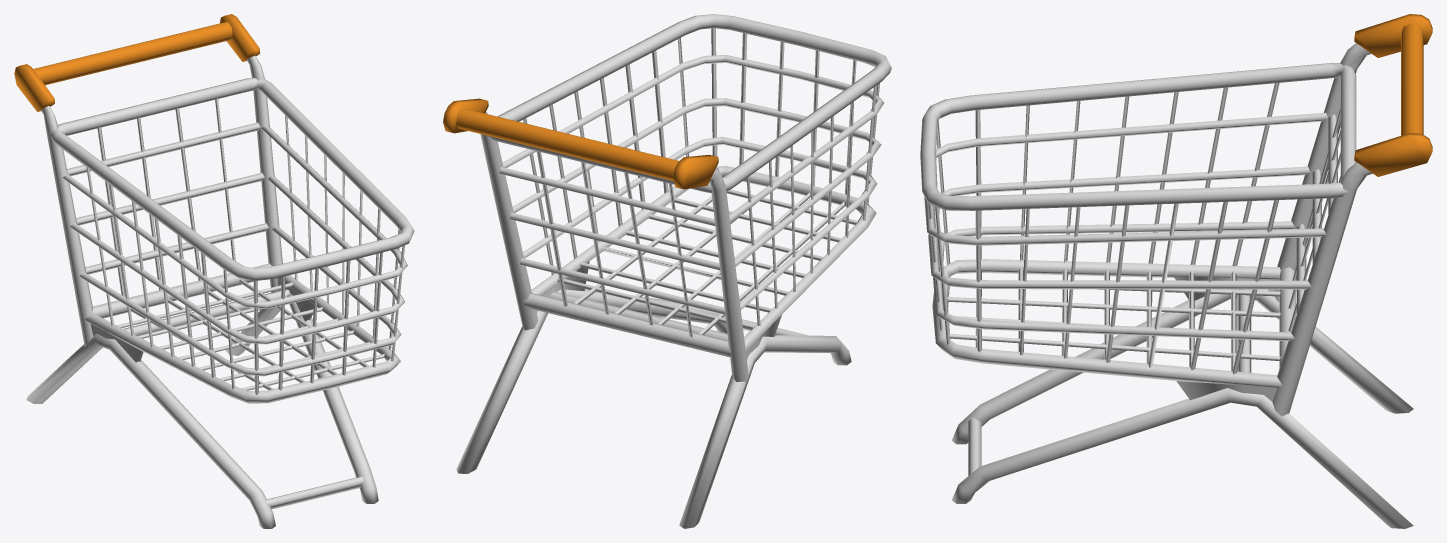
File: top.fbx
3 renders of one model, left to right at view 1: azimuth 30°, elevation 25°; view 2: azimuth 150°, elevation 25°; view 3: azimuth 270°, elevation 25°, orthographic. The views are drawn at different scales.
Visible parts, largest first — view 1: Einkaufswagen; view 2: Einkaufswagen; view 3: Einkaufswagen.
Part boxes in pixels (x1=…): Einkaufswagen: x1=14, y1=14, x2=414, y2=528; Einkaufswagen: x1=443, y1=14, x2=891, y2=528; Einkaufswagen: x1=920, y1=14, x2=1432, y2=528.
Size of the model in its own units: 7.74 by 11.22 by 13.2.
